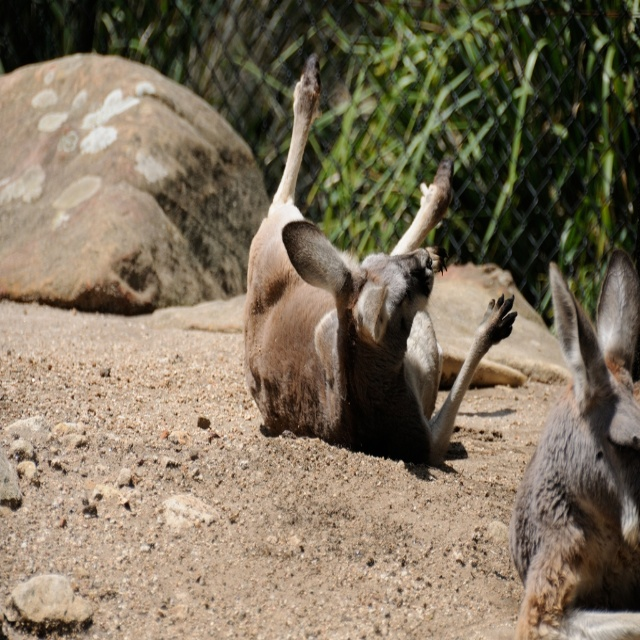Kangaroo: (243, 54, 518, 463), (513, 242, 640, 639)
